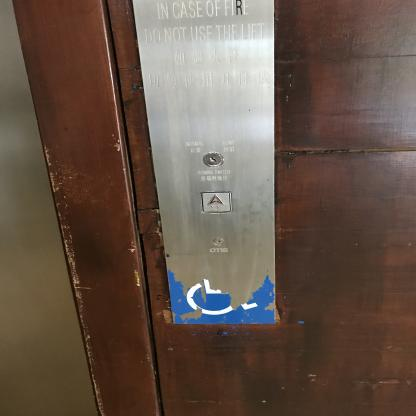keyhole: (199, 149, 226, 169)
up: (198, 189, 234, 215)
